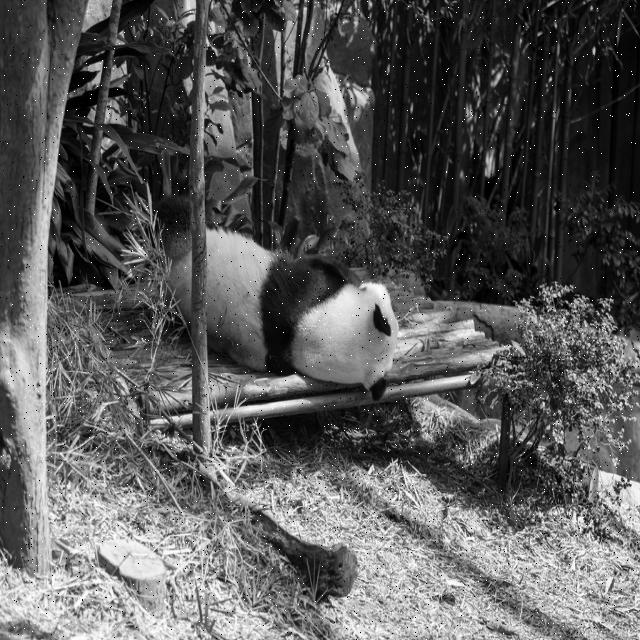panda: (137, 200, 400, 436)
